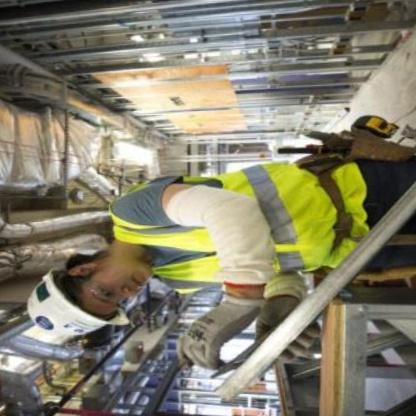vest: (105, 137, 374, 302)
white: (16, 259, 139, 344)
